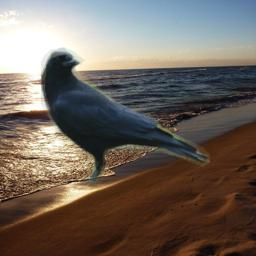Crow: (41, 47, 210, 185)
